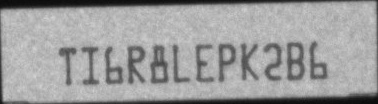2: (264, 41, 283, 80)
6: (309, 40, 328, 80), (105, 46, 123, 84)
8: (149, 44, 169, 83)
B: (286, 41, 305, 80)
E: (196, 42, 215, 82)
I: (81, 47, 100, 85)
K: (241, 41, 260, 81)
L: (173, 44, 191, 84)
P: (218, 42, 237, 83)
R: (127, 44, 146, 84)
T: (58, 47, 78, 86)
